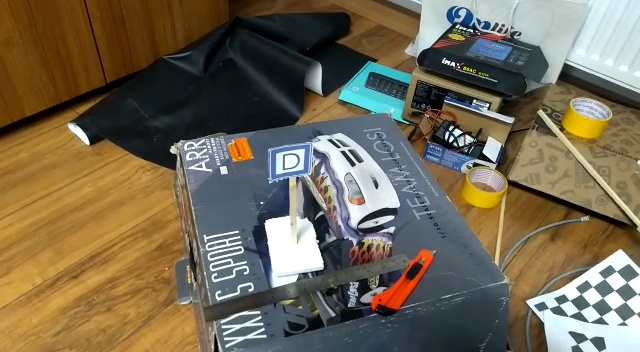durak: (265, 141, 316, 183)
